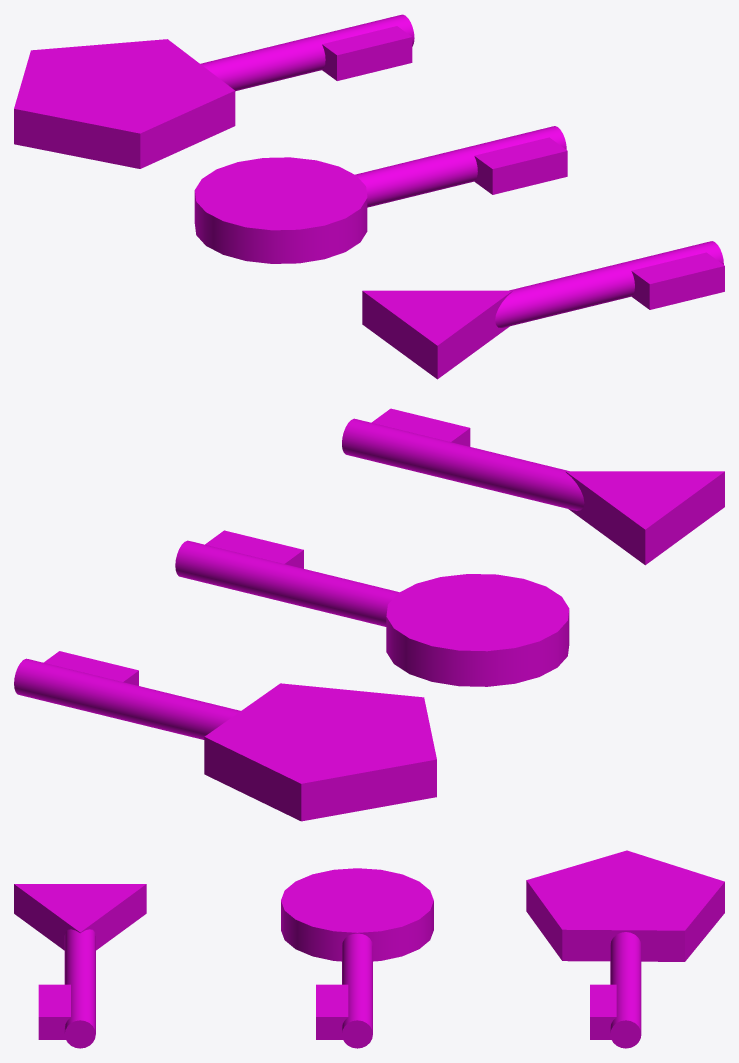
The model's file is 1.Keys.fbx.
3 views of the same model, one above another, from view 1: azimuth 30°, elevation 25°; view 2: azimuth 150°, elevation 25°; view 3: azimuth 270°, elevation 25° (orthographic). The views are drawn at different scales.
Visible parts, largest first — view 1: Remate (×3), Barra (×3), Peineta (×3); view 2: Remate (×3), Barra (×3), Peineta (×3); view 3: Remate (×3), Barra (×3), Peineta (×3).
Part boxes in pixels (<box>): Remate (×3): <box>14,39,512,379</box>; Barra (×3): <box>200,14,723,327</box>; Peineta (×3): <box>322,26,724,309</box>; Remate (×3): <box>204,471,724,821</box>; Barra (×3): <box>14,418,584,739</box>; Peineta (×3): <box>44,408,470,685</box>; Remate (×3): <box>14,850,724,961</box>; Barra (×3): <box>64,929,641,1048</box>; Peineta (×3): <box>38,984,616,1039</box>.
Size of the model in its own units: 13.97 by 1.21 by 24.95.
